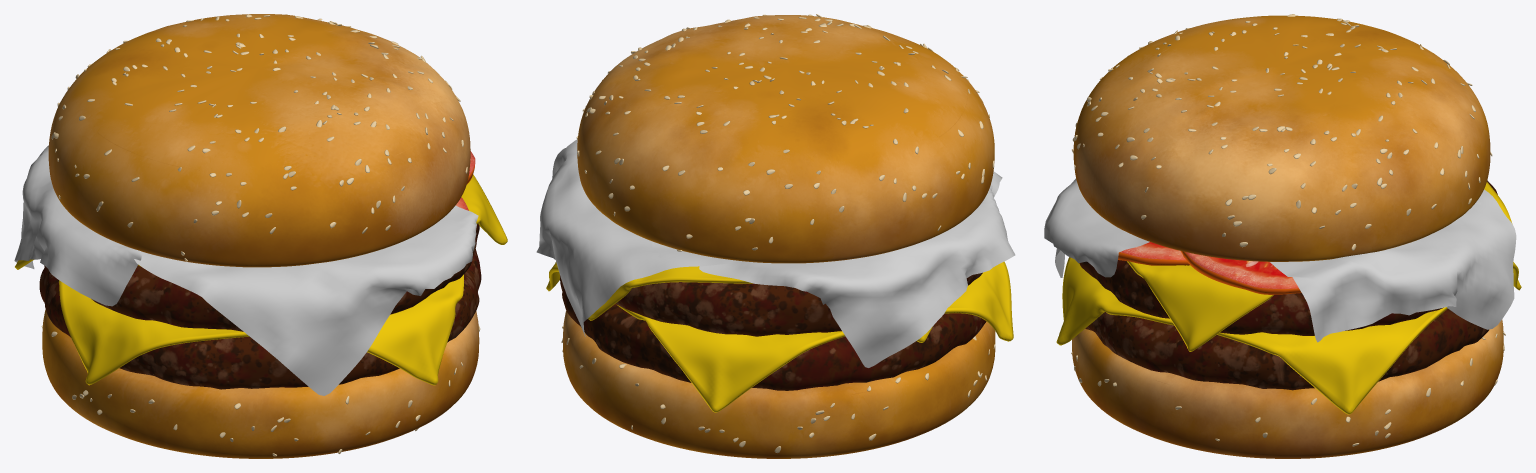
File: Burger.fbx
3 renders of one model, left to right at view 1: azimuth 30°, elevation 25°; view 2: azimuth 150°, elevation 25°; view 3: azimuth 270°, elevation 25°, orthographic.
Parts seen in each view (by area): view 1: Bread(top), Salad, Bread(bottom), Cheese, Meat, Meat2, Bread(top).001, Cheese2, Bread(bottom).001; view 2: Bread(top), Salad, Bread(bottom), Cheese, Meat, Meat2, Bread(top).001, Cheese2, Bread(bottom).001; view 3: Bread(top), Bread(bottom), Salad, Cheese, Meat, Cheese2, Meat2, Bread(top).001, Tomato2.001, Tomato2, Bread(bottom).001.
Boxes of the visible parts, x1=… form: Bread(top): x1=48, y1=14, x2=470, y2=267; Salad: x1=14, y1=145, x2=478, y2=395; Bread(bottom): x1=42, y1=309, x2=479, y2=458; Cheese: x1=59, y1=274, x2=463, y2=385; Meat: x1=39, y1=249, x2=481, y2=389; Meat2: x1=91, y1=224, x2=479, y2=331; Bread(top).001: x1=51, y1=14, x2=467, y2=261; Cheese2: x1=15, y1=174, x2=507, y2=269; Bread(bottom).001: x1=41, y1=325, x2=480, y2=456; Bread(top): x1=577, y1=15, x2=994, y2=263; Salad: x1=536, y1=139, x2=1015, y2=367; Bread(bottom): x1=563, y1=310, x2=995, y2=458; Cheese: x1=546, y1=261, x2=1013, y2=412; Meat: x1=560, y1=275, x2=986, y2=390; Meat2: x1=615, y1=272, x2=982, y2=336; Bread(top).001: x1=576, y1=14, x2=994, y2=251; Cheese2: x1=588, y1=266, x2=932, y2=342; Bread(bottom).001: x1=561, y1=325, x2=995, y2=452; Bread(top): x1=1073, y1=15, x2=1490, y2=261; Bread(bottom): x1=1072, y1=319, x2=1503, y2=458; Salad: x1=1044, y1=178, x2=1516, y2=342; Cheese: x1=1056, y1=257, x2=1521, y2=414; Meat: x1=1085, y1=309, x2=1488, y2=390; Cheese2: x1=1127, y1=182, x2=1512, y2=351; Meat2: x1=1079, y1=180, x2=1497, y2=335; Bread(top).001: x1=1072, y1=14, x2=1492, y2=250; Tomato2.001: x1=1181, y1=251, x2=1301, y2=294; Tomato2: x1=1118, y1=242, x2=1189, y2=265; Bread(bottom).001: x1=1071, y1=332, x2=1505, y2=446.
Bounding box in the file's own units: 504 × 346 × 481.
